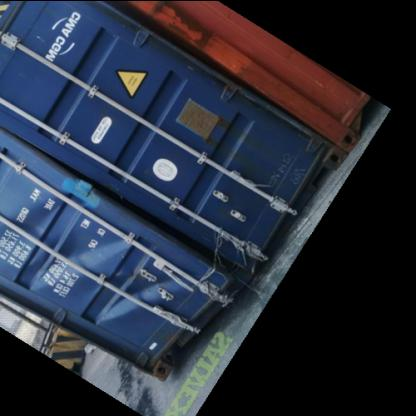Damage: (10, 196, 178, 323), (183, 216, 266, 300), (196, 107, 256, 160), (264, 142, 310, 204), (10, 27, 56, 89)
